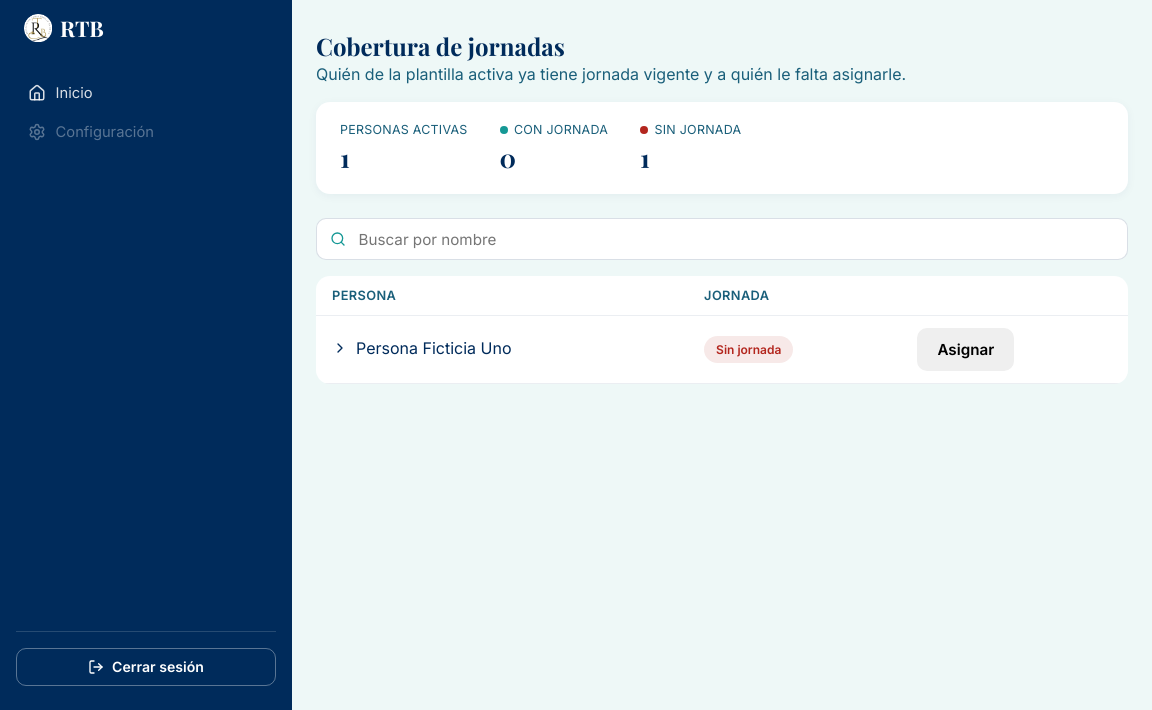
it: AsignarJornadaPage › "Cancelar" cierra el formulario en la misma pestaña, sin navegar afuera
Click the button "Asignar": (966, 350) [917, 328, 1014, 371]
(page scrolled)
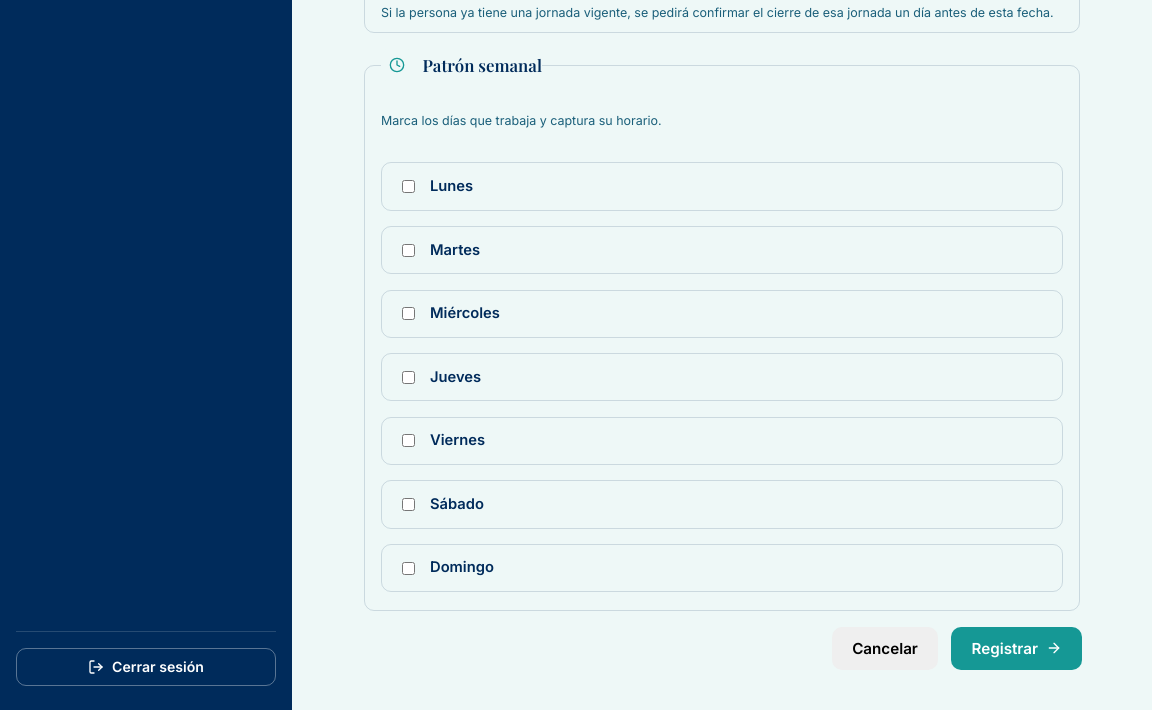
Click the button "Cancelar": (885, 648) [832, 627, 938, 670]
(page scrolled)
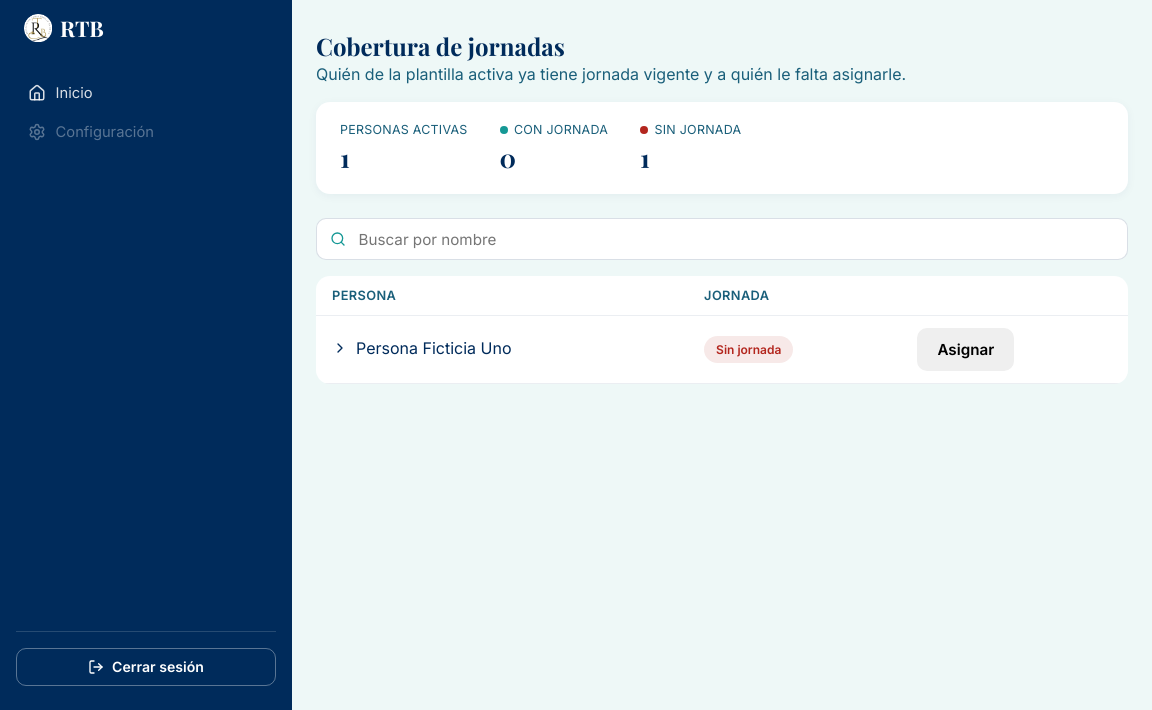
Expected: the button "Cancelar" is gone
